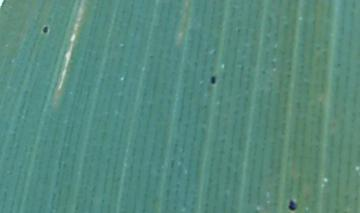tarspot: (286, 197, 299, 213), (208, 74, 218, 86), (41, 24, 50, 36)
